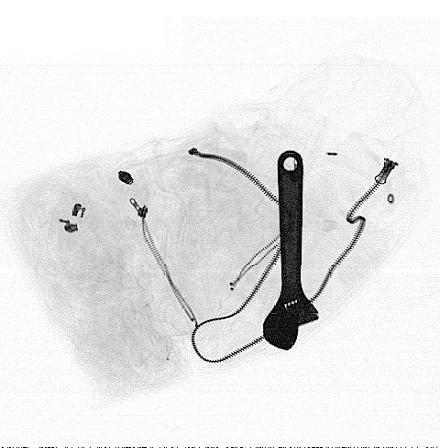Wrench: (262, 147, 323, 351)
